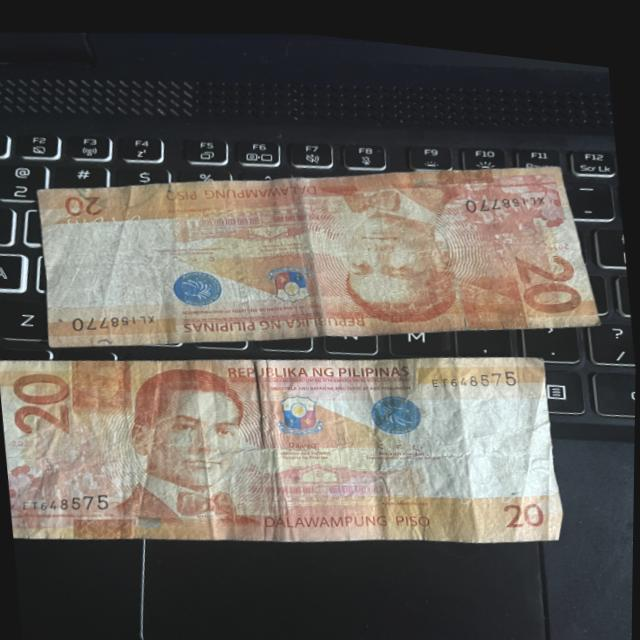concealed_value: (459, 256, 533, 326), (61, 352, 133, 417)
serial_number: (13, 476, 116, 527), (421, 341, 521, 388), (66, 296, 176, 337)
value: (501, 225, 591, 310), (4, 357, 90, 444)
